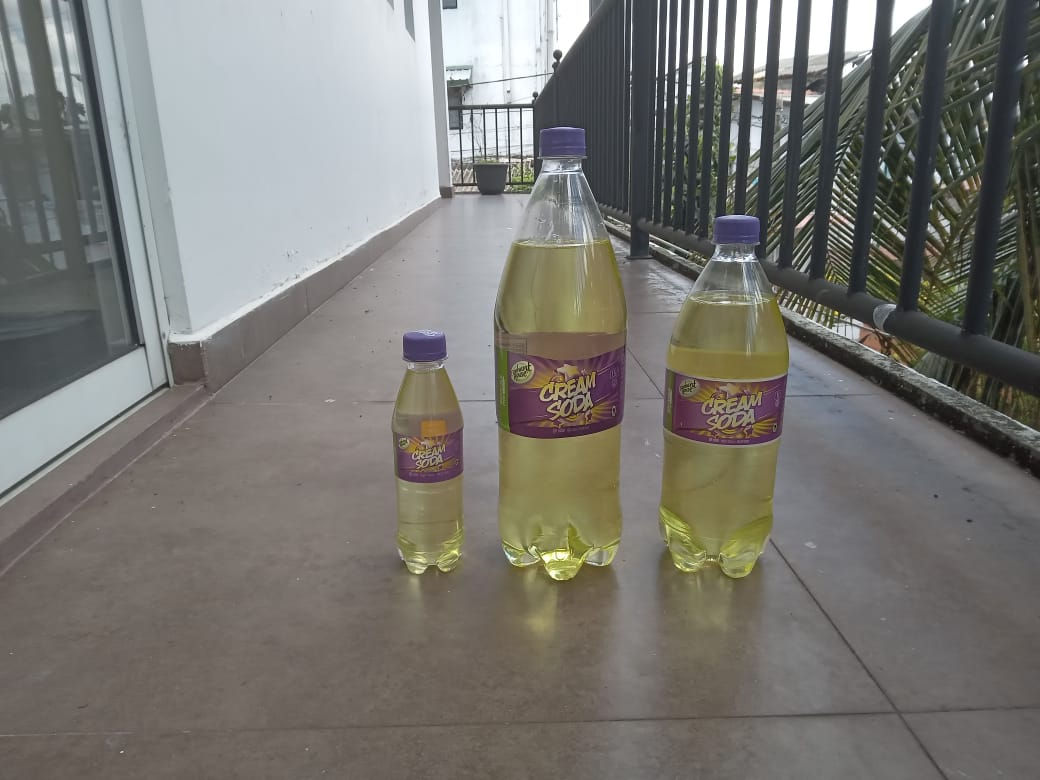L: (493, 126, 630, 584)
M: (659, 215, 791, 581)
Xs: (386, 331, 474, 575)
